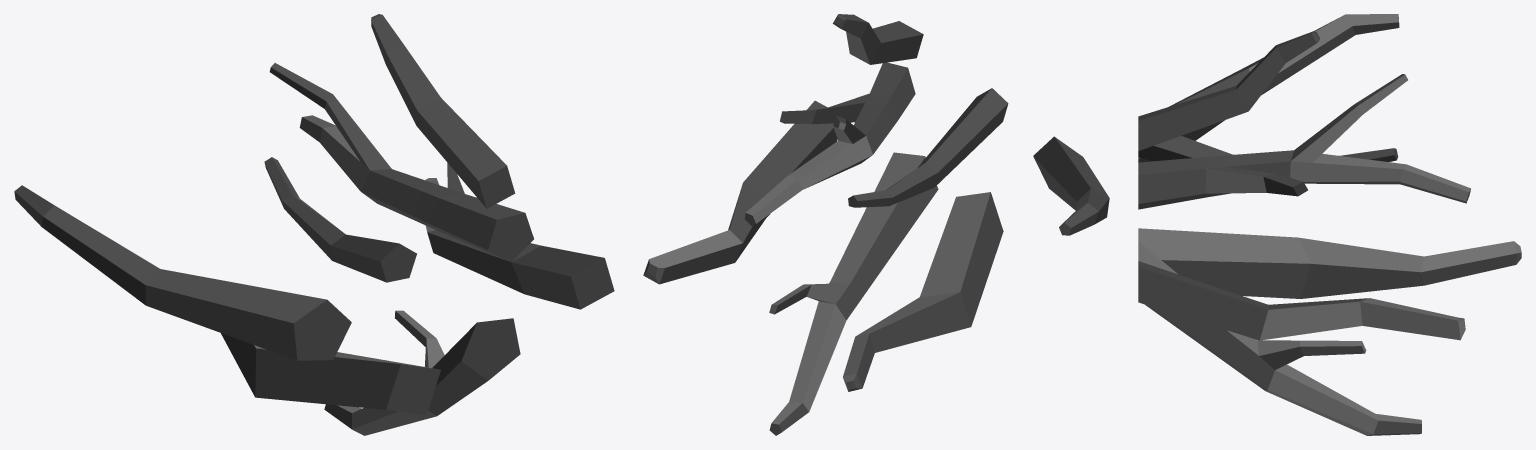
File: winter_night_stick_2.fbx
The picture shows the model from 3 angles, left to right: view 1: azimuth 30°, elevation 25°; view 2: azimuth 150°, elevation 25°; view 3: azimuth 270°, elevation 25°; orthographic projection. The views are drawn at different scales.
Visible parts, largest first — view 1: winter_night_stick_2; view 2: winter_night_stick_2; view 3: winter_night_stick_2.
Boxes of the visible parts, x1,y1,x2,y2 form: winter_night_stick_2: (14, 14, 614, 435); winter_night_stick_2: (643, 14, 1109, 435); winter_night_stick_2: (1138, 14, 1521, 435).
Size of the model in its own units: 157 by 145 by 127.
